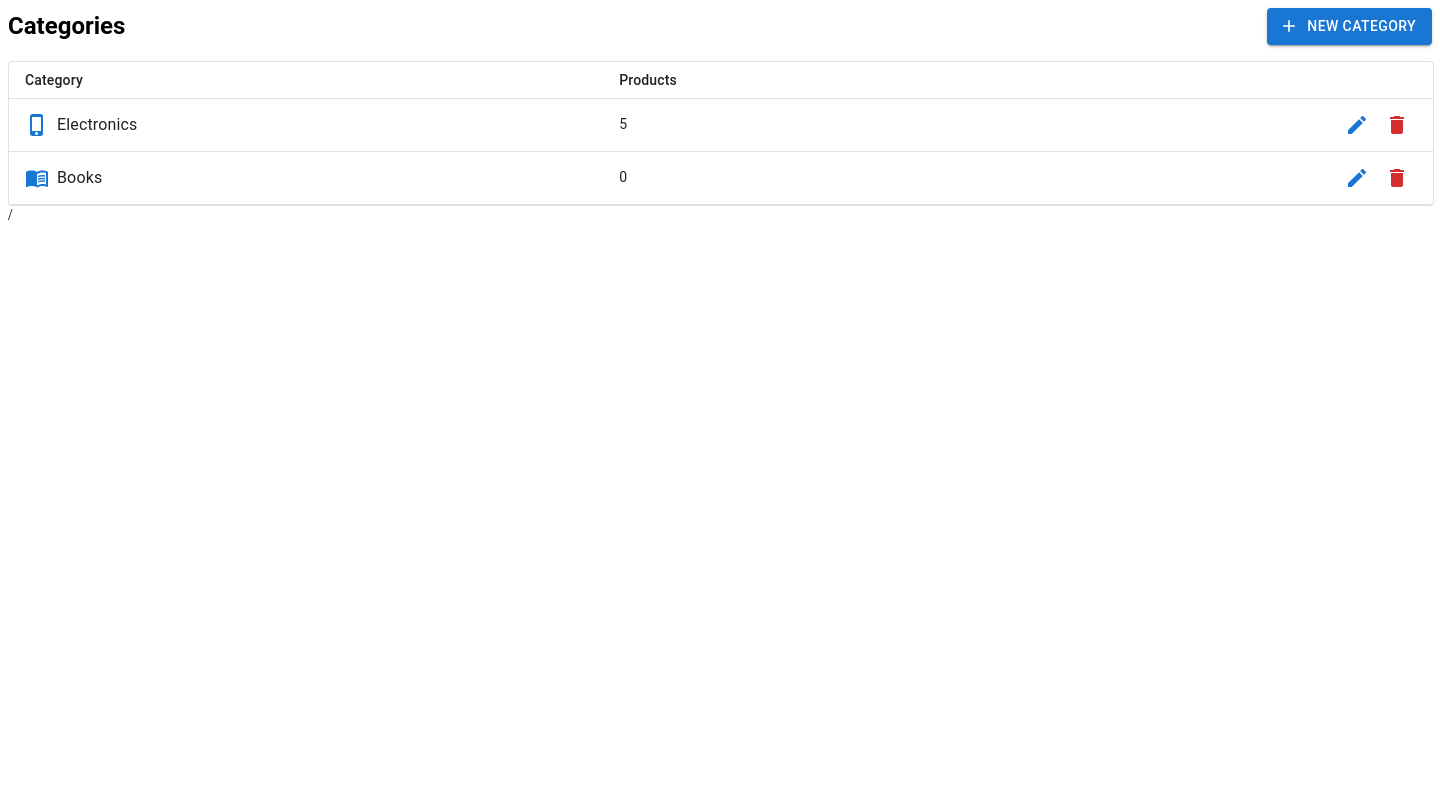
Test case: AdminCategories › requires a name
Click the button "New category".
click(1350, 26)  # box [1267, 8, 1432, 44]
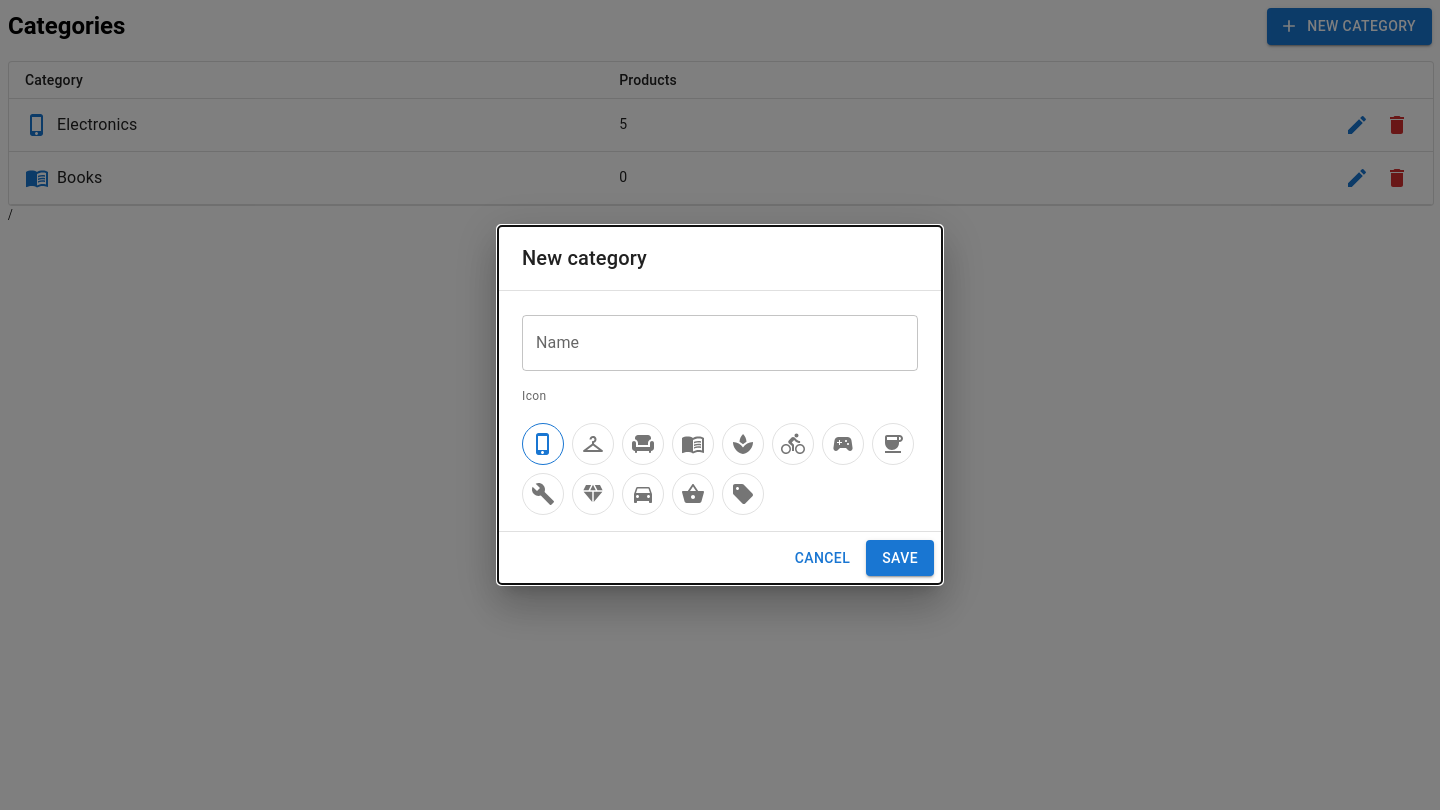
Click the button "Save".
click(900, 558)  # box [866, 540, 934, 576]
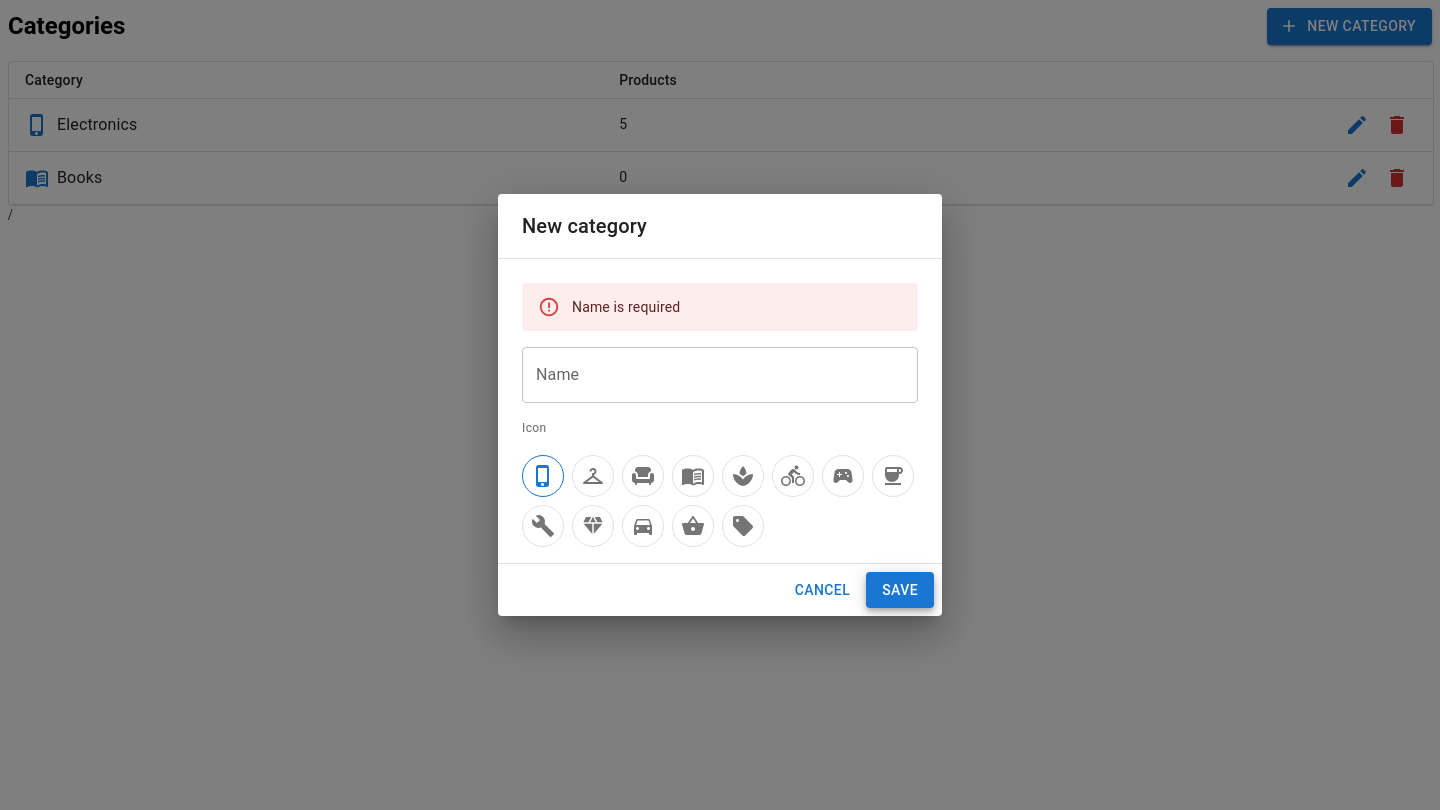
Result: the text "Name is required" is shown at [572, 299, 680, 315]
